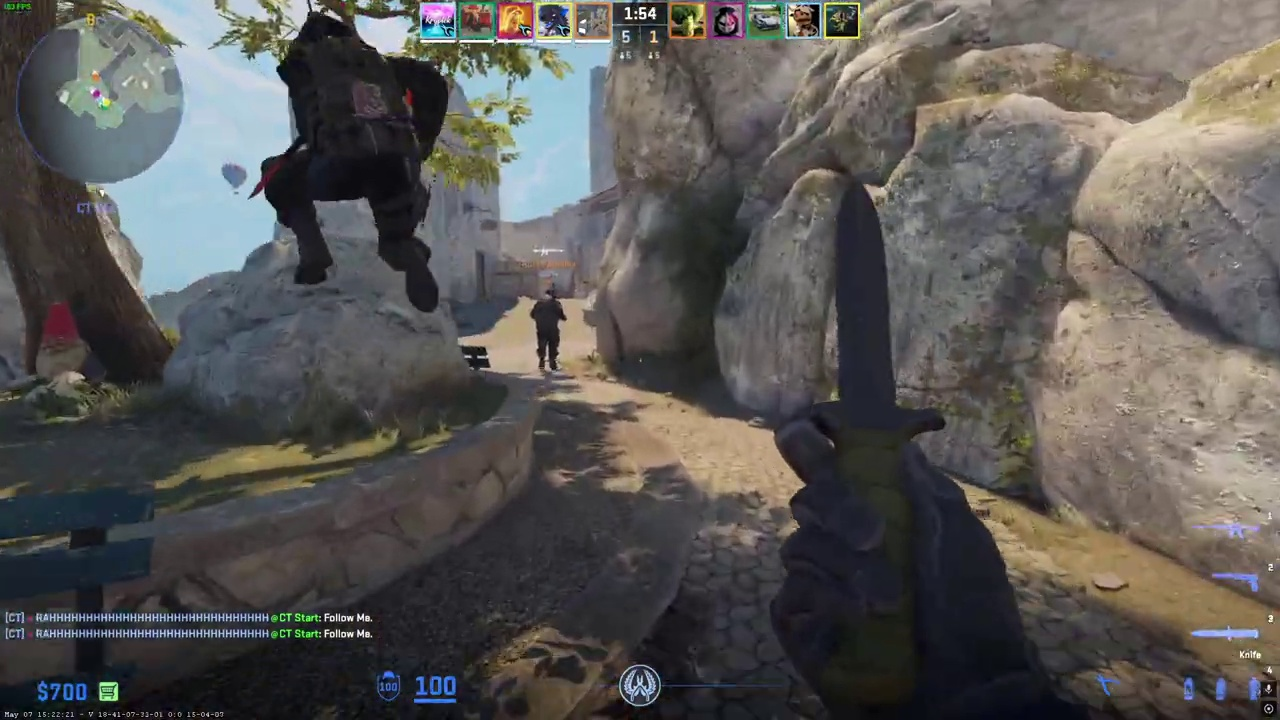CT: (262, 11, 449, 299), (530, 289, 566, 370)
